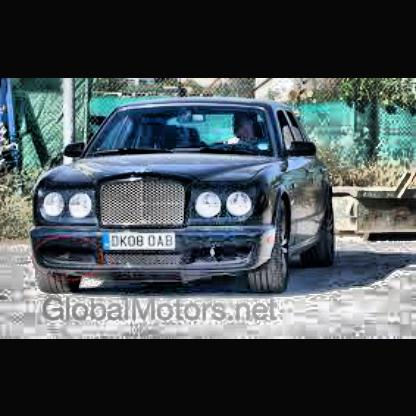Bentley Arnage Sedan 2009: (36, 100, 337, 292)
